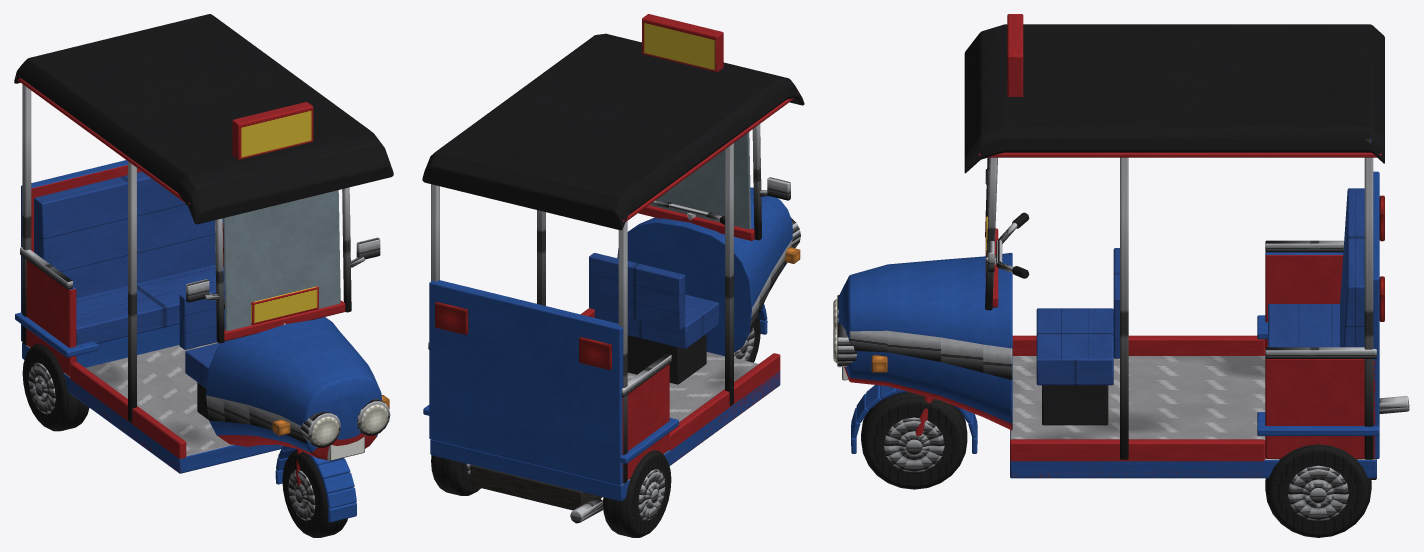
Rendered from ThaiTukTuk.fbx.
3 renders of one model, left to right at view 1: azimuth 30°, elevation 25°; view 2: azimuth 150°, elevation 25°; view 3: azimuth 270°, elevation 25°, orthographic. The views are drawn at different scales.
Parts seen in each view (by area): view 1: ThaiTukTuk, ThaiTukTuk_Glass, Wheel_RR, Wheel_F; view 2: ThaiTukTuk, ThaiTukTuk_Glass, Wheel_RR, Wheel_RL, Wheel_F, ThaiTukTuk_Handlebar; view 3: ThaiTukTuk, Wheel_F, Wheel_RL, ThaiTukTuk_Handlebar.
Part boxes in pixels (x1,y1,x2,y2): ThaiTukTuk: (14, 14, 393, 522); ThaiTukTuk_Glass: (223, 190, 340, 331); Wheel_RR: (22, 344, 89, 431); Wheel_F: (282, 450, 347, 537); ThaiTukTuk: (422, 14, 804, 523); ThaiTukTuk_Glass: (649, 132, 750, 229); Wheel_RR: (603, 450, 671, 537); Wheel_RL: (431, 455, 480, 495); Wheel_F: (734, 315, 760, 362); ThaiTukTuk_Handlebar: (650, 200, 724, 225); ThaiTukTuk: (833, 14, 1409, 479); Wheel_F: (861, 392, 967, 489); Wheel_RL: (1265, 444, 1371, 537); ThaiTukTuk_Handlebar: (915, 212, 1029, 435).
Size of the model in its own units: 147 by 262 by 303.
Materials: 1 (1 with a texture image).
